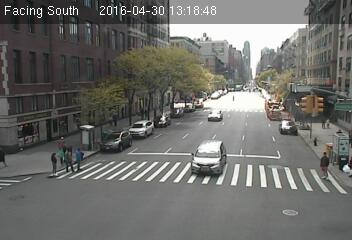neg: (138, 170, 163, 204), (82, 63, 103, 90), (42, 71, 61, 96), (115, 134, 134, 159), (82, 121, 100, 145), (238, 171, 256, 195), (172, 52, 187, 72), (199, 156, 214, 176), (282, 202, 297, 222), (198, 40, 213, 60), (34, 193, 49, 212), (287, 131, 301, 151), (174, 98, 188, 117), (303, 86, 317, 105), (230, 42, 244, 61), (308, 130, 322, 149), (214, 102, 228, 120), (40, 117, 54, 134), (144, 61, 156, 78), (139, 103, 151, 120), (282, 56, 294, 71), (327, 47, 339, 62), (273, 99, 284, 115), (251, 110, 262, 125)
pos: (316, 150, 339, 181), (71, 147, 90, 173), (44, 151, 63, 176), (54, 146, 69, 166)
